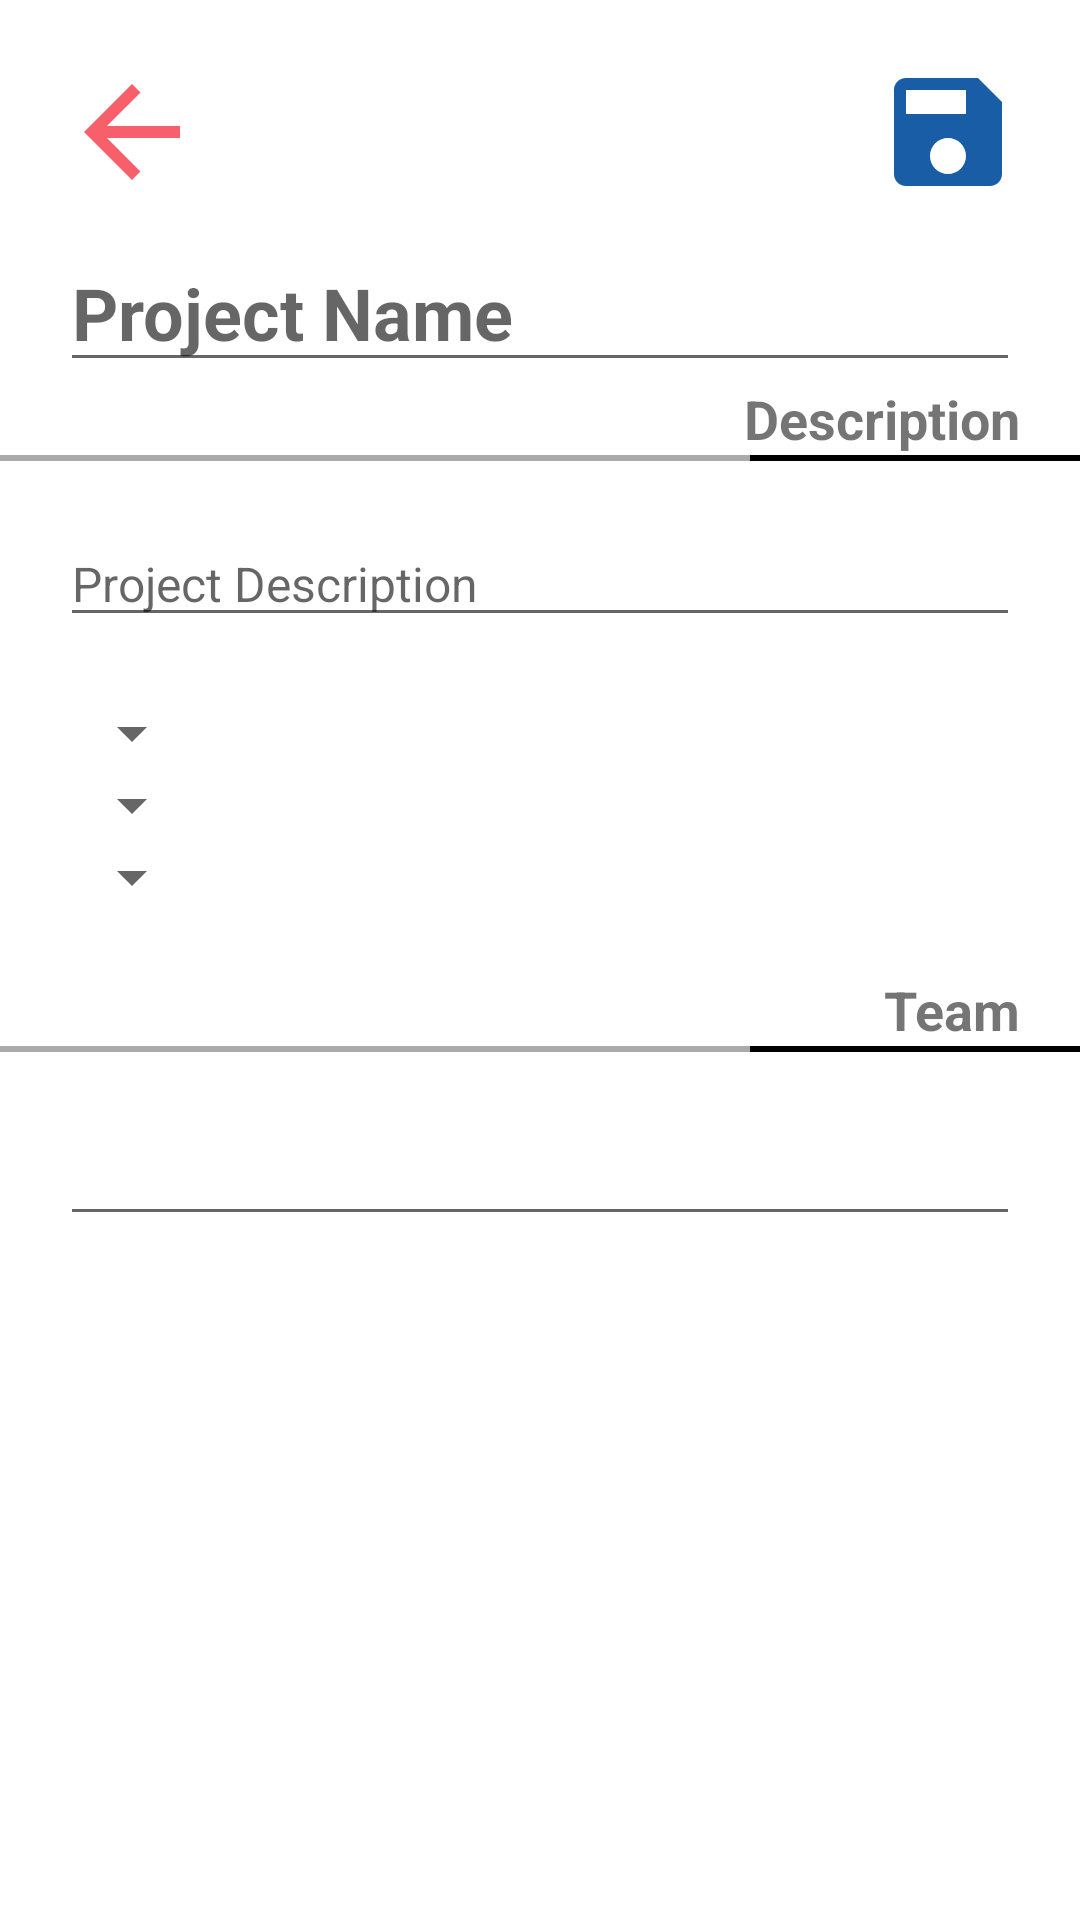

Where icons sit on this 1080*1920 app screen, as (x1, y1, x2, y2):
arrow back: (84, 84, 180, 180)
save: (894, 78, 1002, 186)
